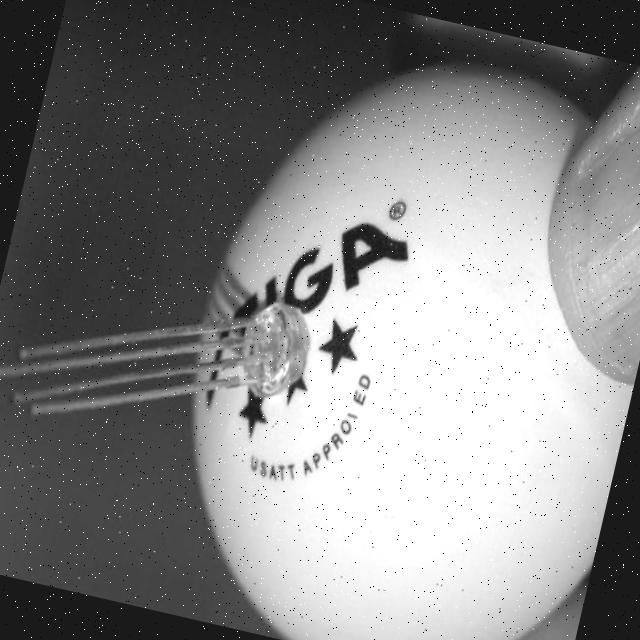ping-pong-ball: (135, 25, 640, 640)
